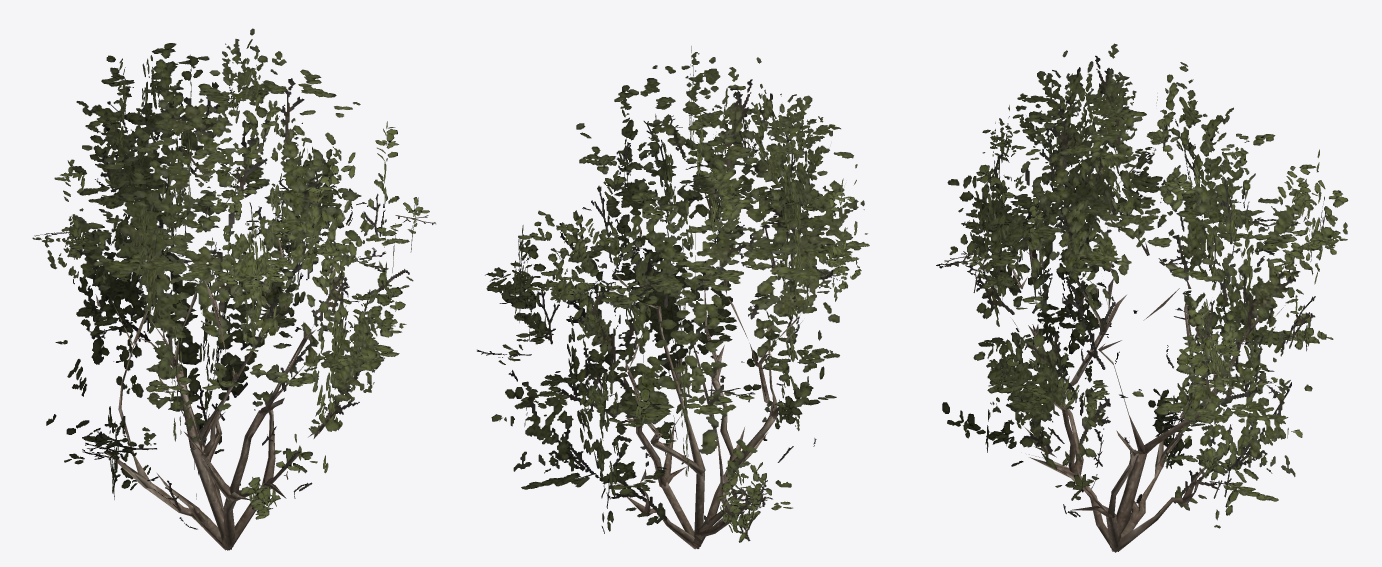
Rendered from bush_b.glb.
3 renders of one model, left to right at view 1: azimuth 30°, elevation 25°; view 2: azimuth 150°, elevation 25°; view 3: azimuth 270°, elevation 25°, orthographic. The views are drawn at different scales.
Parts seen in each view (by area): view 1: foliage, searsia_lucida_b_LOD0; view 2: foliage, searsia_lucida_b_LOD0; view 3: foliage, searsia_lucida_b_LOD0.
Boxes of the visible parts, left/top/right/bottom form: foliage: left=32, top=28, right=435, bottom=529; searsia_lucida_b_LOD0: left=95, top=79, right=340, bottom=550; foliage: left=477, top=46, right=869, bottom=542; searsia_lucida_b_LOD0: left=526, top=112, right=814, bottom=549; foliage: left=936, top=43, right=1348, bottom=528; searsia_lucida_b_LOD0: left=994, top=93, right=1285, bottom=552.
Bounding box in the file's own units: 1.46 × 1.99 × 1.68.
2 materials, 2 textured.
